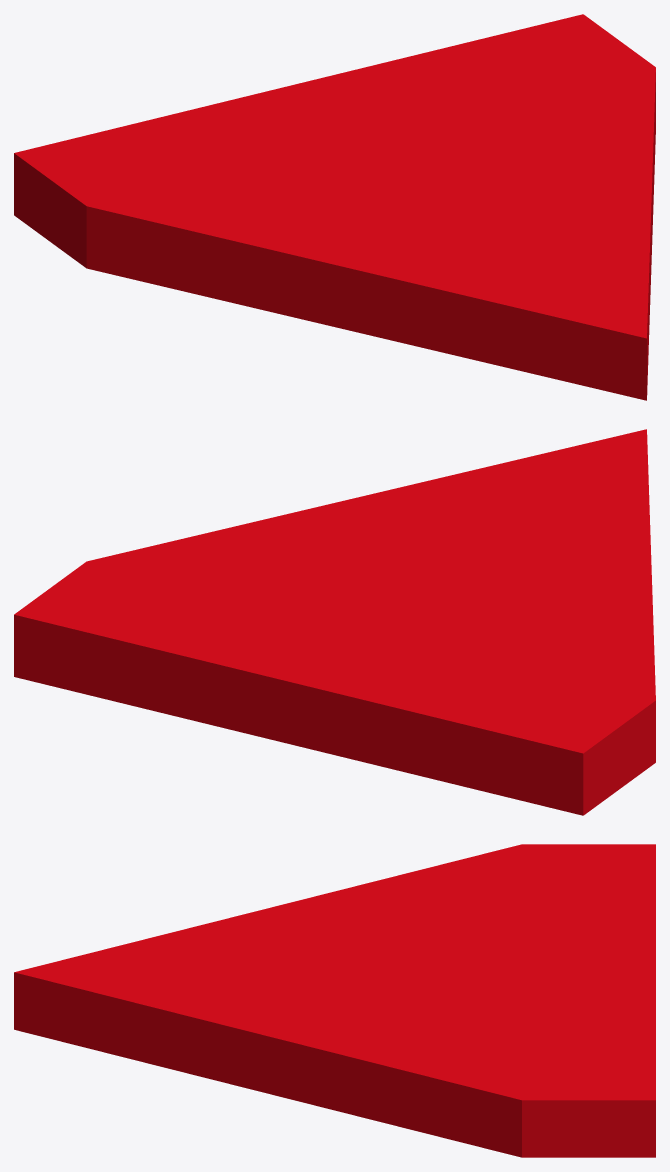
File: ArrowButtonPart.fbx
The picture shows the model from 3 angles, top to bottom: view 1: azimuth 30°, elevation 25°; view 2: azimuth 150°, elevation 25°; view 3: azimuth 270°, elevation 25°; orthographic projection. The views are drawn at different scales.
Parts seen in each view (by area): view 1: Cube; view 2: Cube; view 3: Cube.
Part boxes in pixels (bbox=[...]): Cube: bbox=[14, 14, 655, 400]; Cube: bbox=[14, 429, 655, 815]; Cube: bbox=[14, 844, 655, 1157].
Bounding box in the file's own units: 168 × 17.58 × 178.
